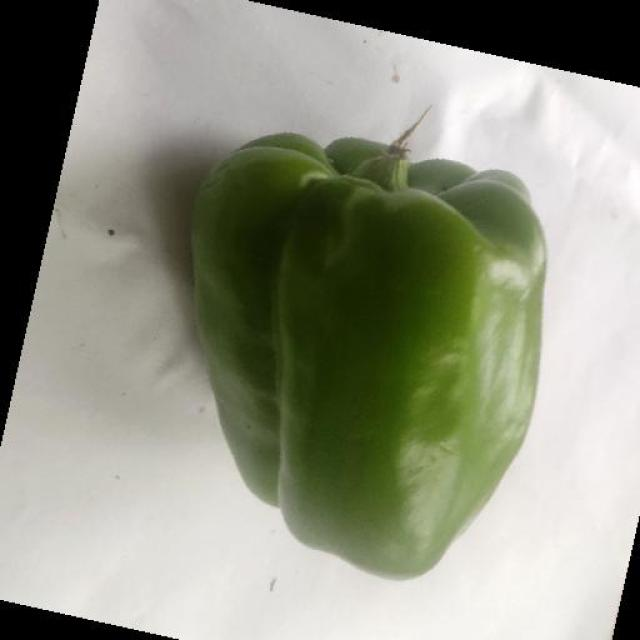Fresh_Capsicum: (231, 144, 563, 561)
